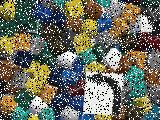Left: (83, 71, 123, 115)
